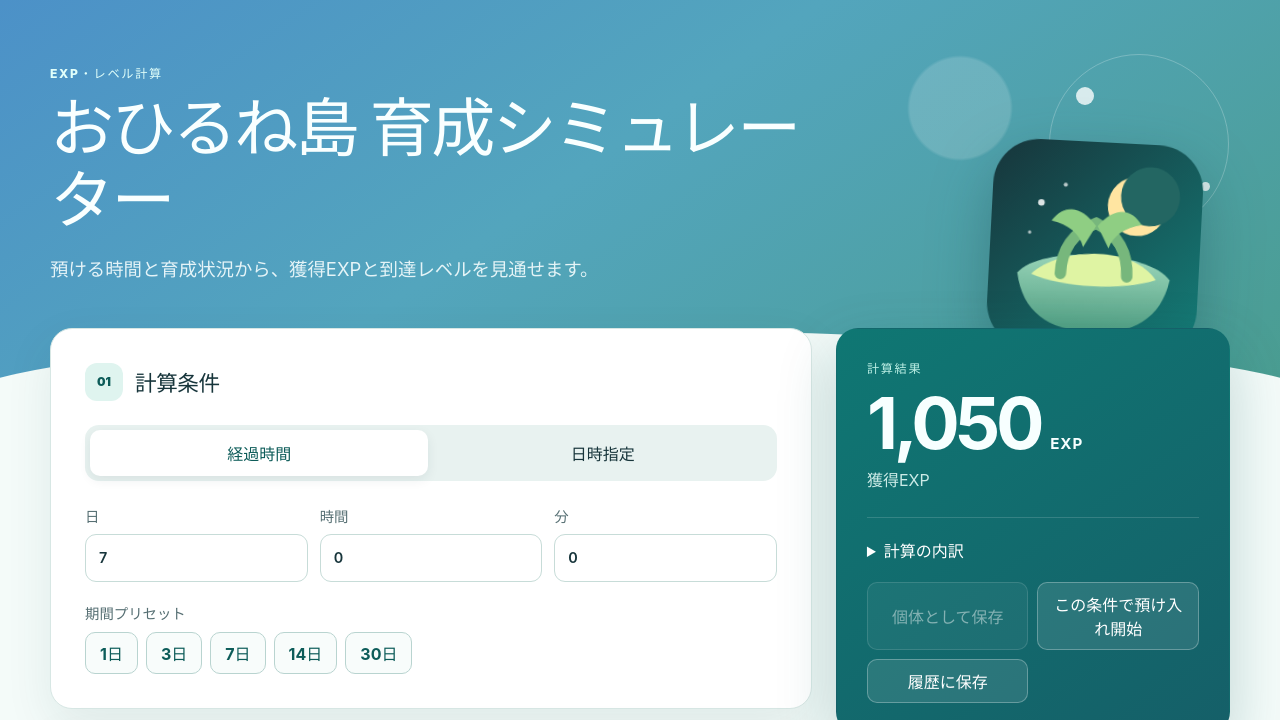
Test: CalculatorPage › shows a nearby validation error for an out-of-range duration
Replace the text in the number field labelled "時間" with "24". click: (431, 558)
box: [320,534,542,582]
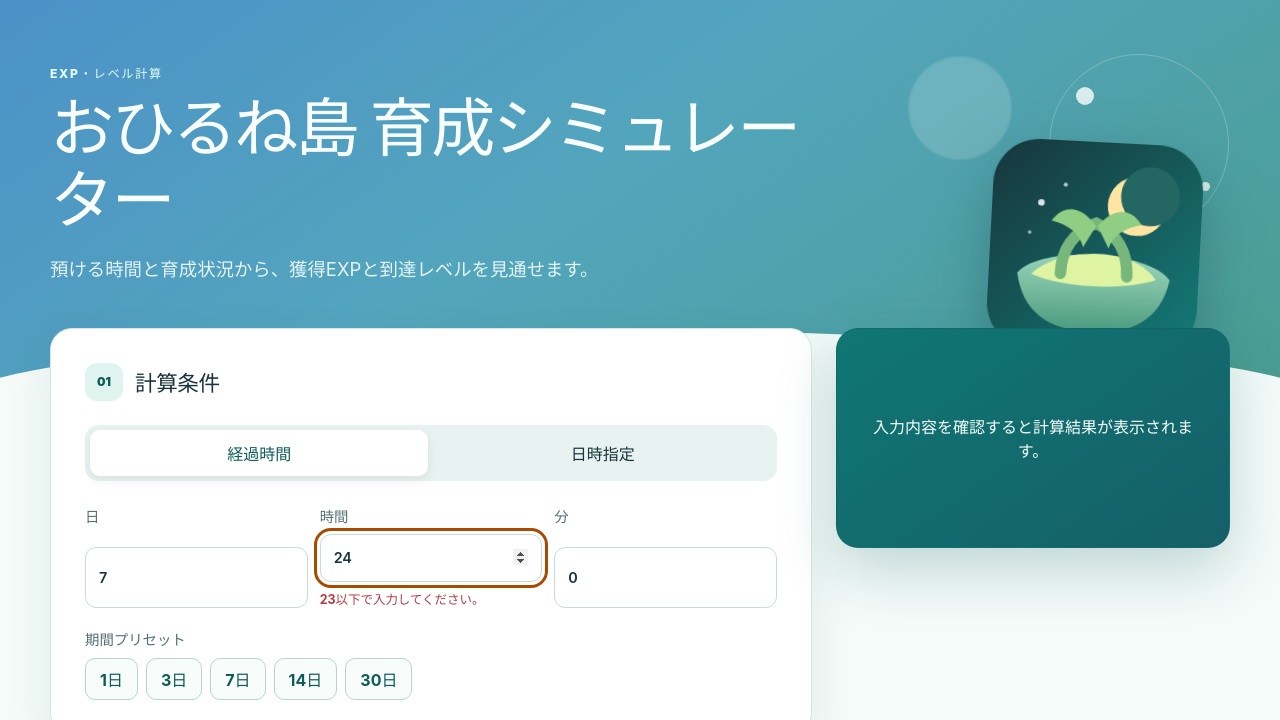
Check: the text "入力内容を確認すると計算結果が表示されます。" is shown, box [867,414,1199,462]
Check: the text "23以下で入力してください。" is shown, box [320,592,484,606]
